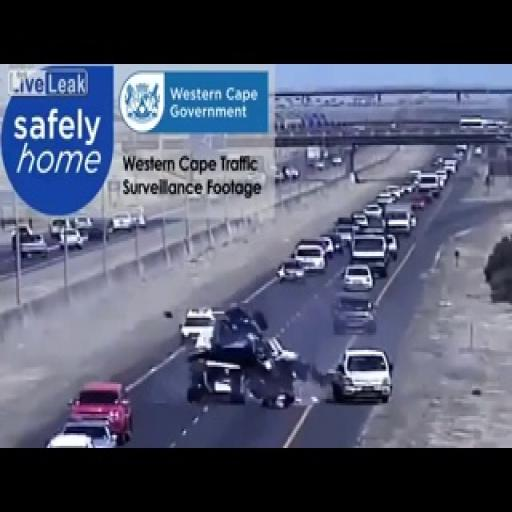Car: (221, 334, 301, 410), (192, 341, 252, 407), (330, 347, 393, 404), (278, 231, 340, 282), (47, 420, 120, 448), (332, 294, 376, 336), (179, 306, 220, 346), (221, 304, 266, 336), (11, 227, 48, 258), (342, 264, 375, 293), (307, 150, 345, 171), (277, 259, 307, 283), (57, 228, 88, 250), (380, 242, 397, 272), (324, 232, 346, 254), (334, 222, 355, 244), (111, 212, 134, 231), (370, 259, 390, 279), (73, 215, 94, 234), (49, 218, 68, 238), (411, 193, 432, 211), (386, 233, 399, 258), (10, 225, 30, 241), (282, 166, 300, 180), (136, 210, 146, 228), (274, 168, 284, 182), (315, 160, 326, 170), (410, 214, 417, 228), (474, 146, 483, 156)
Major Accident: (186, 334, 306, 412)
